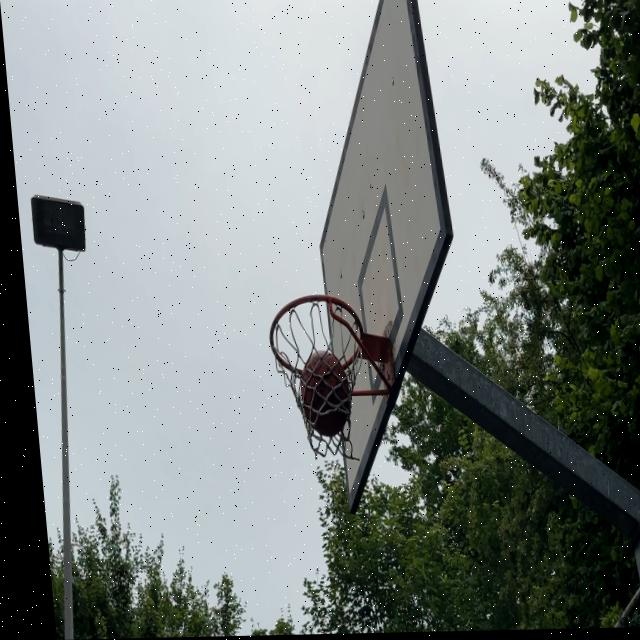Goal: (297, 350, 354, 435)
